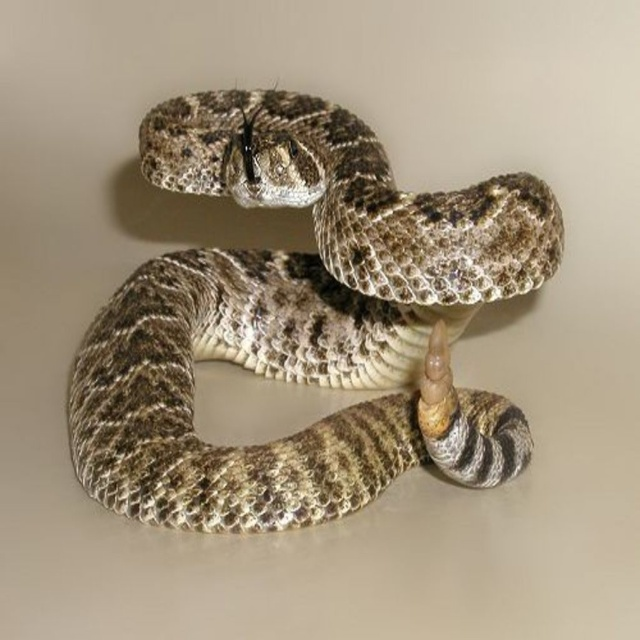Snake: (67, 72, 567, 534)
